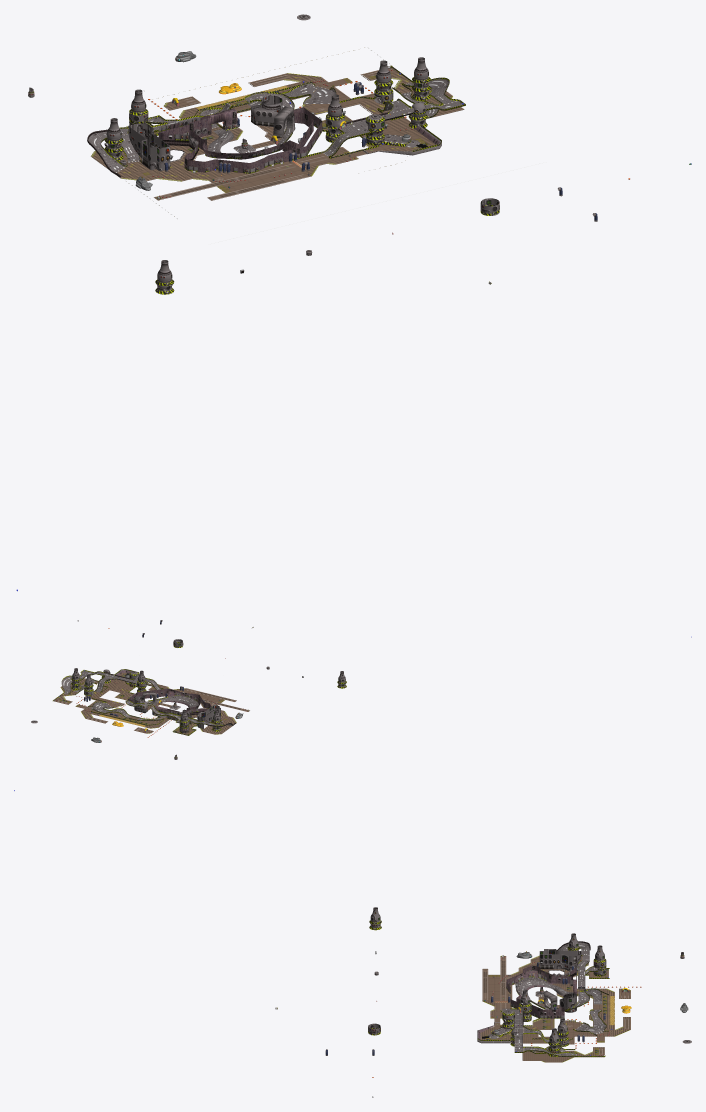
Rendered from ReactiveFactory.glb.
The picture shows the model from 3 angles, top to bottom: view 1: azimuth 30°, elevation 25°; view 2: azimuth 150°, elevation 25°; view 3: azimuth 270°, elevation 25°; orthographic projection. The views are drawn at different scales.
Parts seen in each view (by area): view 1: Dec0; view 2: Dec0; view 3: Dec0.
Part boxes in pixels (x1,y1,x2,y2): Dec0: (16, 14, 691, 591); Dec0: (31, 620, 691, 759); Dec0: (14, 790, 691, 1097).
Size of the model in its own units: 627 by 28.42 by 587.
10 materials, 10 textured.
